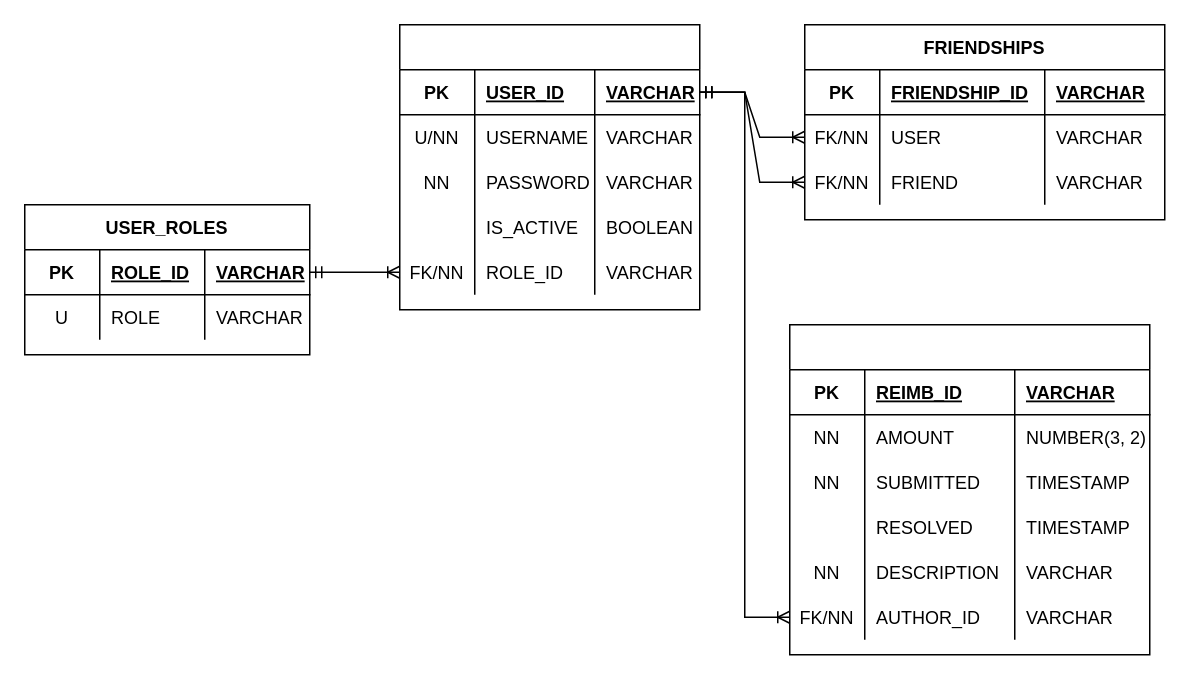
The diagram is 1190 pixels wide and 680 high, and some of its shapes have lost their labels. The shapes that lost their labels are listed below. From the top down, each one's box as (x1, y1, x2, y2) in pixels, then its label:
(398, 23, 700, 310): USERS
(788, 323, 1150, 655): REIMBURSEMENTS
